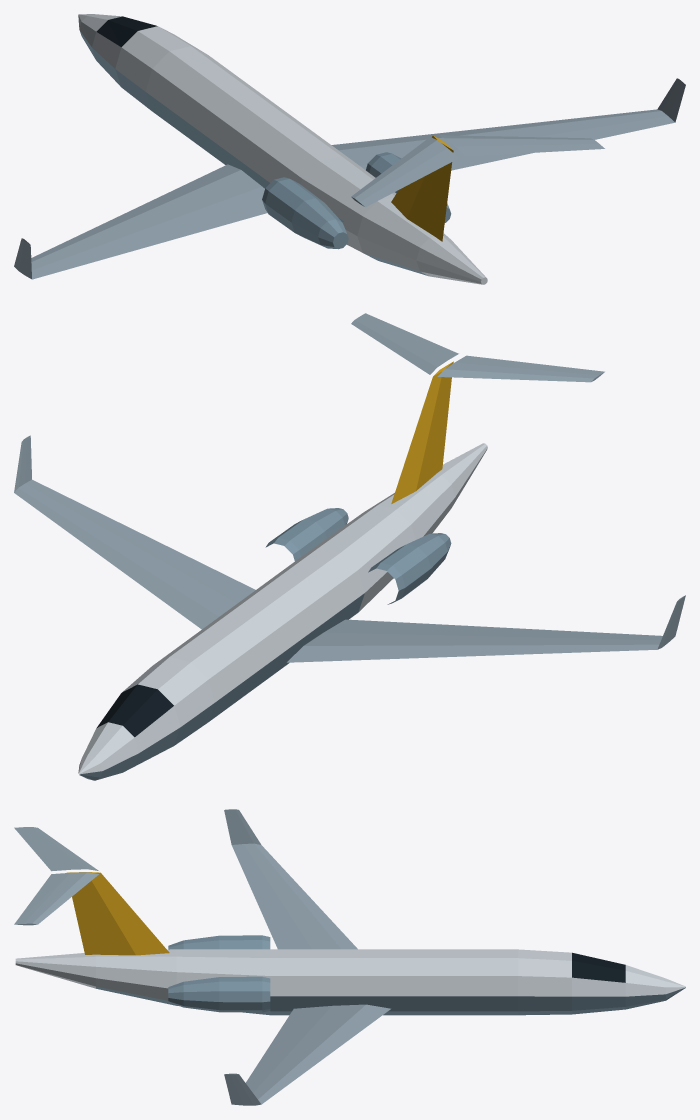
3 views of the same model, one above another, from view 1: azimuth 30°, elevation 25°; view 2: azimuth 150°, elevation 25°; view 3: azimuth 270°, elevation 25° (orthographic). The views are drawn at different scales.
Parts seen in each view (by area): view 1: lod0; view 2: lod0; view 3: lod0.
Part boxes in pixels (x1,y1,x2,y2): lod0: (14,14,685,284); lod0: (14,313,685,780); lod0: (14,809,685,1105).
Size of what is drawn, in the model's own units: 0.9308 by 0.2302 by 1.
